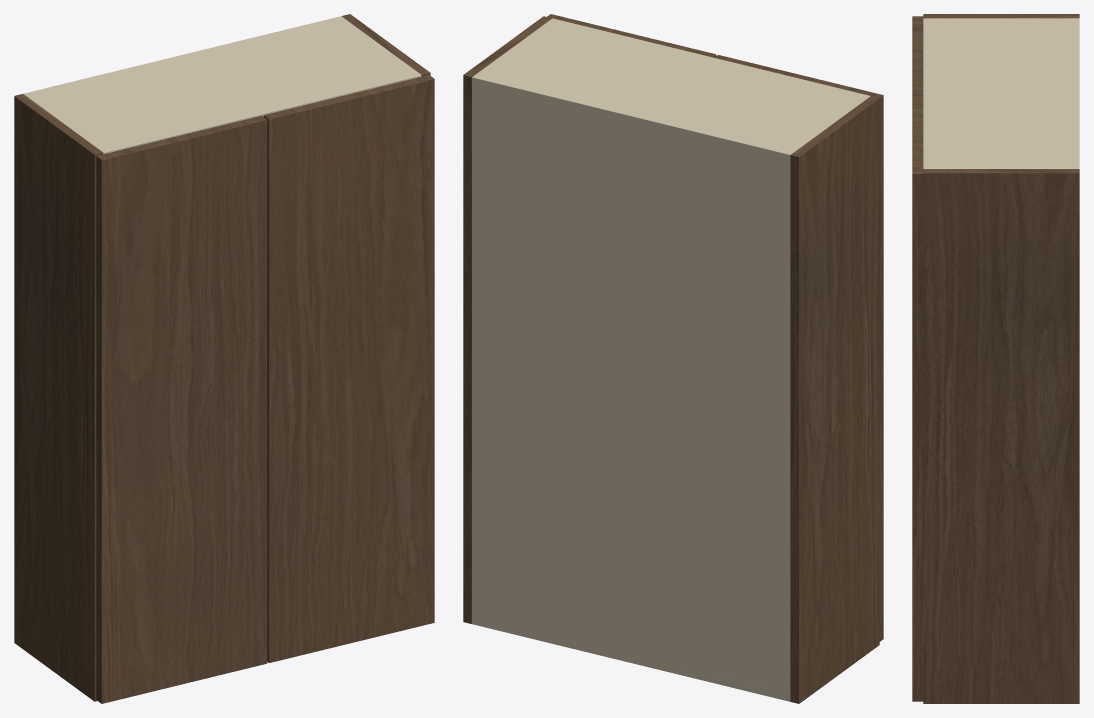
The model's file is oppein-ply-mso-w2742.glb.
The picture shows the model from 3 angles, left to right: view 1: azimuth 30°, elevation 25°; view 2: azimuth 150°, elevation 25°; view 3: azimuth 270°, elevation 25°; orthographic projection. The views are drawn at different scales.
Parts seen in each view (by area): view 1: Door, Door.001, Cabinet side, Cabinet top, Cabinet side.001; view 2: Cabinet back, Cabinet side, Cabinet top, Cabinet side.001, Door, Cabinet bottom, Door.001; view 3: Cabinet side.001, Cabinet top, Door.001, Door, Cabinet side.
Part boxes in pixels (box(x1,y1,x2,y2)): Door: box(96, 115, 267, 703); Door.001: box(263, 75, 434, 662); Cabinet side: box(14, 94, 103, 701); Cabinet top: box(23, 16, 421, 154); Cabinet side.001: box(342, 14, 430, 76); Cabinet back: box(472, 78, 790, 701); Cabinet side: box(790, 96, 879, 703); Cabinet top: box(472, 18, 870, 163); Cabinet side.001: box(463, 16, 551, 623); Door: box(714, 55, 883, 641); Cabinet bottom: box(600, 647, 790, 701); Door.001: box(547, 14, 716, 57); Cabinet side.001: box(923, 169, 1079, 703); Cabinet top: box(923, 18, 1079, 168); Door.001: box(912, 95, 923, 701); Door: box(912, 16, 923, 95); Cabinet side: box(923, 14, 1079, 18).
Bounding box in the file's own units: 0.6858 × 1.07 × 0.3048.
Materials: 2 (1 with a texture image).
